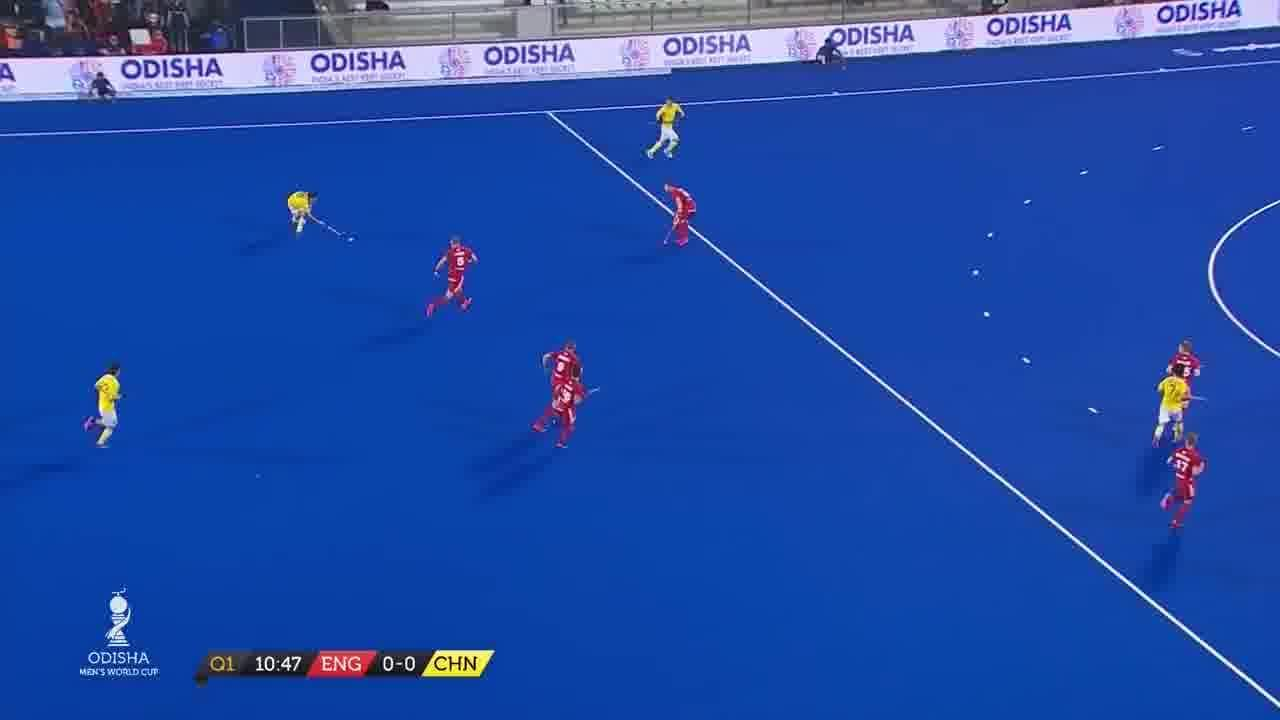ball: (343, 229, 361, 250)
